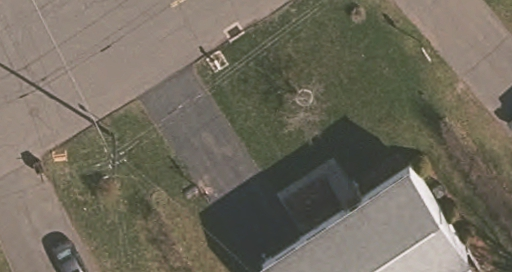DT: (96, 129, 135, 185)
